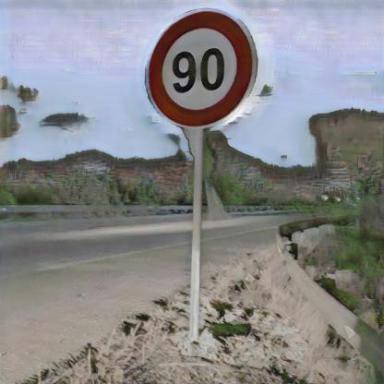Speed_limit_90: (150, 12, 250, 128)
